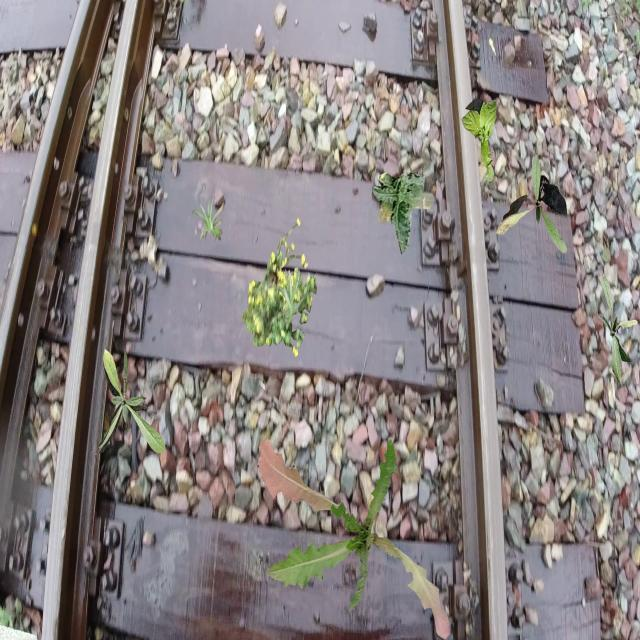Plant: (258, 437, 450, 640), (242, 218, 317, 358), (94, 348, 166, 456), (496, 154, 568, 254), (372, 172, 436, 255), (598, 274, 638, 384), (461, 98, 496, 182), (279, 268, 306, 324), (192, 196, 224, 242)
